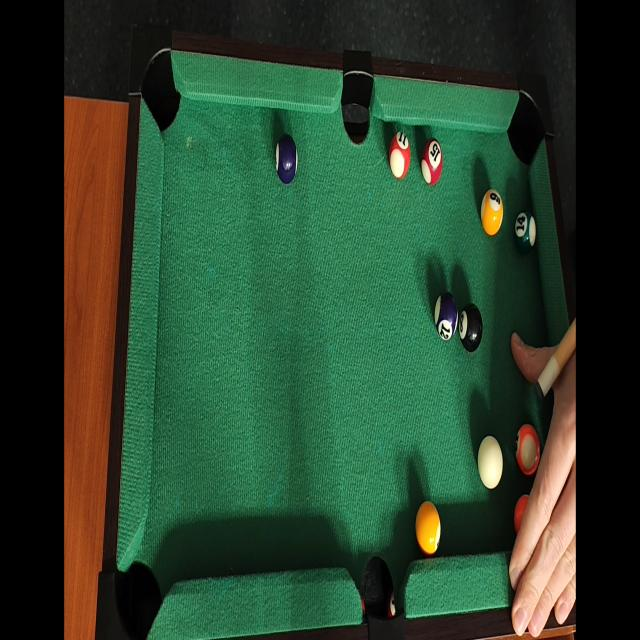cue ball: (476, 428, 505, 492)
other: (413, 494, 444, 562), (511, 417, 542, 483), (429, 286, 460, 349), (476, 182, 504, 241), (385, 127, 412, 188), (272, 129, 299, 187), (510, 204, 540, 256), (458, 299, 484, 357), (418, 134, 444, 190)
